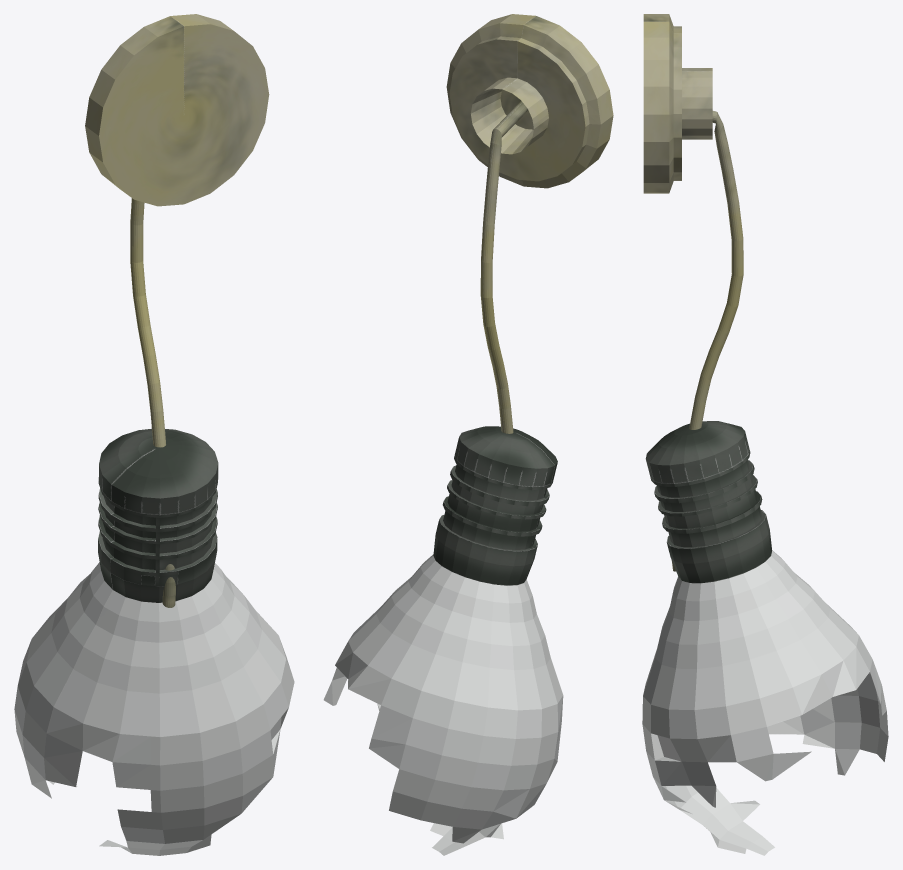
File: BrokenLight.fbx
3 renders of one model, left to right at view 1: azimuth 30°, elevation 25°; view 2: azimuth 150°, elevation 25°; view 3: azimuth 270°, elevation 25°, orthographic. The views are drawn at different scales.
Parts seen in each view (by area): view 1: pSphere2; view 2: pSphere2; view 3: pSphere2.
Boxes of the visible parts, bbox=[...] form: pSphere2: bbox=[14, 14, 294, 855]; pSphere2: bbox=[323, 14, 613, 855]; pSphere2: bbox=[642, 14, 888, 855].
Size of the model in its own units: 11.85 by 41.41 by 11.37.
1 material, 1 textured.
